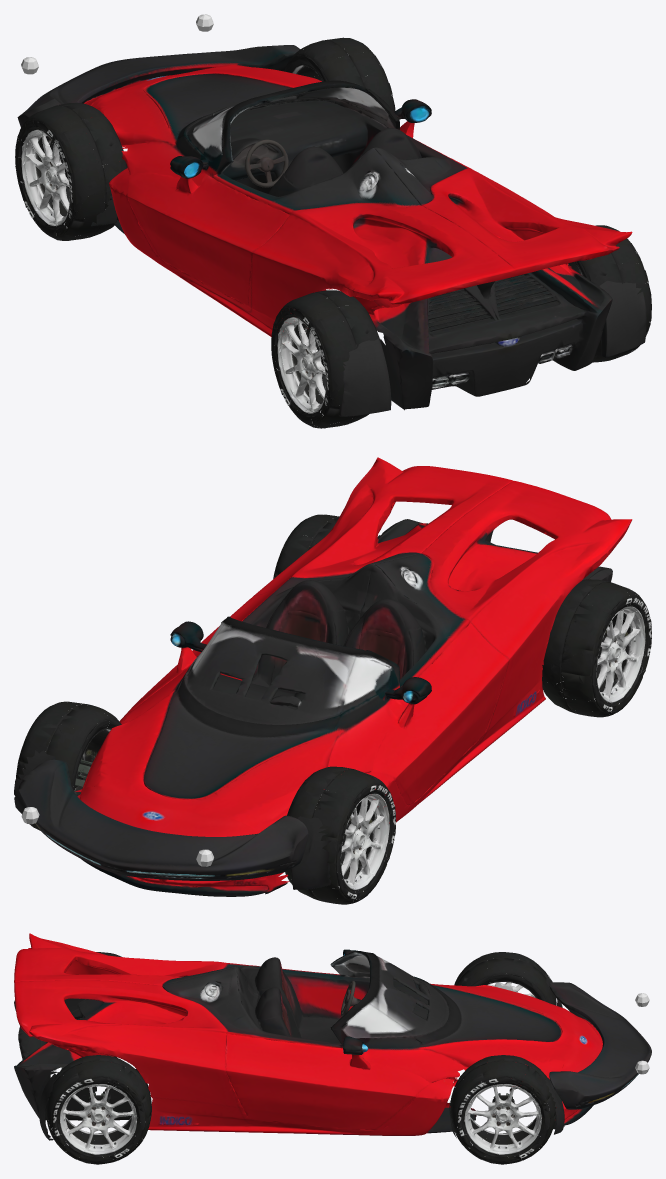
The model's file is indigo-roadster.glb.
3 views of the same model, one above another, from view 1: azimuth 30°, elevation 25°; view 2: azimuth 150°, elevation 25°; view 3: azimuth 270°, elevation 25° (orthographic). The views are drawn at different scales.
Parts seen in each view (by area): view 1: tripo_node_31a7e459-8012-4882-9e2a-0d05282c0071, WHL0_H, WHL2_H, WHL1_H, WHL3_H; view 2: tripo_node_31a7e459-8012-4882-9e2a-0d05282c0071, WHL2_H, WHL0_H, WHL1_H, WHL3_H; view 3: tripo_node_31a7e459-8012-4882-9e2a-0d05282c0071, WHL3_H, WHL1_H, WHL0_H.
Part boxes in pixels (box(x1,y1,x2,y2)): tripo_node_31a7e459-8012-4882-9e2a-0d05282c0071: box(17, 45, 646, 416); WHL0_H: box(15, 102, 127, 240); WHL2_H: box(271, 290, 381, 428); WHL1_H: box(284, 37, 395, 111); WHL3_H: box(568, 225, 651, 362); tripo_node_31a7e459-8012-4882-9e2a-0d05282c0071: box(14, 457, 632, 896); WHL2_H: box(542, 579, 651, 717); WHL0_H: box(285, 766, 395, 904); WHL1_H: box(16, 701, 121, 830); WHL3_H: box(273, 514, 339, 578); tripo_node_31a7e459-8012-4882-9e2a-0d05282c0071: box(14, 933, 651, 1140); WHL3_H: box(45, 1055, 151, 1164); WHL1_H: box(450, 1055, 556, 1164); WHL0_H: box(454, 952, 556, 1005).
Size of the model in its own units: 2.1 by 1.09 by 4.52.
2 materials, 2 textured.
